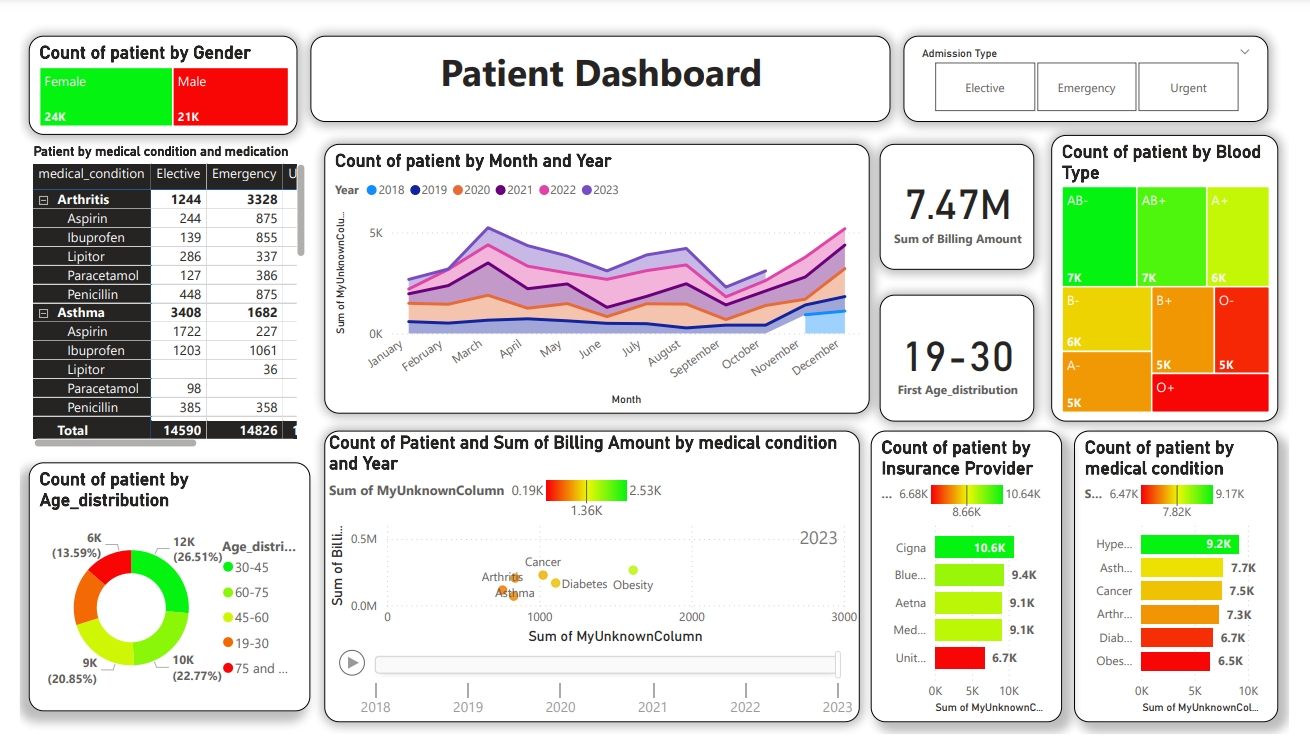

What the dashboard file says about the page in this screenshot:
{"tool":"powerbi","page":{"name":"Page 1","canvas":[1280,720],"ordinal":0},"visuals":[{"type":"textbox","box":[293.4,15.9,584.3,86.8],"z":0},{"type":"clusteredBarChart","title":"Count of patient by medical condition","fields":{"Y":["Sum(health_csv(sql).MyUnknownColumn)"],"Category":["health_csv(sql).medical_condition"]},"box":[1063.5,414.4,205.4,293.4],"z":1000},{"type":"stackedAreaChart","title":"Count of patient by Month and Year","fields":{"Series":["health_csv(sql).Date of Admission.Variation.Date Hierarchy.Year"],"Category":["health_csv(sql).Date of Admission.Variation.Date Hierarchy.Month"],"Y":["Sum(health_csv(sql).MyUnknownColumn)"]},"box":[306.8,124.7,550.1,272.6],"z":2000},{"type":"scatterChart","title":"Count of Patient and Sum of Billing Amount by medical condition and Year","fields":{"Play":["health_csv(sql).Date of Admission.Variation.Date Hierarchy.Year"],"Y":["Sum(health_csv(sql).Billing Amount)"],"Category":["health_csv(sql).medical_condition"],"X":["Sum(health_csv(sql).MyUnknownColumn)"]},"box":[306.8,414.4,540.3,293.4],"z":3000},{"type":"donutChart","title":"Count of patient by Age_distribution","fields":{"Y":["Sum(health_csv(sql).MyUnknownColumn)"],"Category":["health_csv(sql).Age_distribution"]},"box":[8.6,446.2,284.8,250.6],"z":4000},{"type":"clusteredBarChart","title":"Count of patient by Insurance Provider","fields":{"Category":["health_csv(sql).Insurance Provider"],"Y":["Sum(health_csv(sql).MyUnknownColumn)"]},"box":[858.1,414.4,193.1,293.4],"z":5000},{"type":"treemap","title":"Count of patient by Blood Type","fields":{"Group":["health_csv(sql).Blood Type"],"Values":["Sum(health_csv(sql).MyUnknownColumn)"]},"box":[1040.3,116.1,228.6,288.5],"z":6000},{"type":"slicer","fields":{"Values":["health_csv(sql).Admission Type"]},"box":[891.1,15.9,367.9,86.8],"z":7000},{"type":"card","fields":{"Values":["Sum(health_csv(sql).Billing Amount)"]},"box":[866.7,124.7,156.5,127.1],"z":8000},{"type":"card","fields":{"Values":["Min(health_csv(sql).Age_distribution)"]},"box":[866.7,277.5,156.5,127.1],"z":9000},{"type":"pivotTable","title":"Patient by medical condition and medication ","fields":{"Rows":["health_csv(sql).medical_condition","health_csv(sql).Medication"],"Columns":["health_csv(sql).Admission Type"],"Values":["Sum(health_csv(sql).MyUnknownColumn)"]},"box":[8.6,124.7,284.8,311.7],"z":9001},{"type":"treemap","title":"Count of patient by Gender","fields":{"Group":["health_csv(sql).Gender"],"Values":["Sum(health_csv(sql).MyUnknownColumn)"]},"box":[8.6,15.9,271.4,100.2],"z":9002}]}

Visuals, with their boxes in screenshot pixels (x1, y1, x2, y2), scaled from the page's 1280x720 canvas onto the 1310x745 screenshot:
textbox: 300:16:898:106
"Count of patient by medical condition" clusteredBarChart: 1088:429:1299:732
"Count of patient by Month and Year" stackedAreaChart: 314:129:877:411
"Count of Patient and Sum of Billing Amount by medical condition and Year" scatterChart: 314:429:867:732
"Count of patient by Age_distribution" donutChart: 9:462:300:721
"Count of patient by Insurance Provider" clusteredBarChart: 878:429:1076:732
"Count of patient by Blood Type" treemap: 1065:120:1299:419
slicer - health_csv(sql).Admission Type: 912:16:1289:106
card - Sum(health_csv(sql).Billing Amount): 887:129:1047:261
card - Min(health_csv(sql).Age_distribution): 887:287:1047:419
"Patient by medical condition and medication " pivotTable: 9:129:300:452
"Count of patient by Gender" treemap: 9:16:287:120
